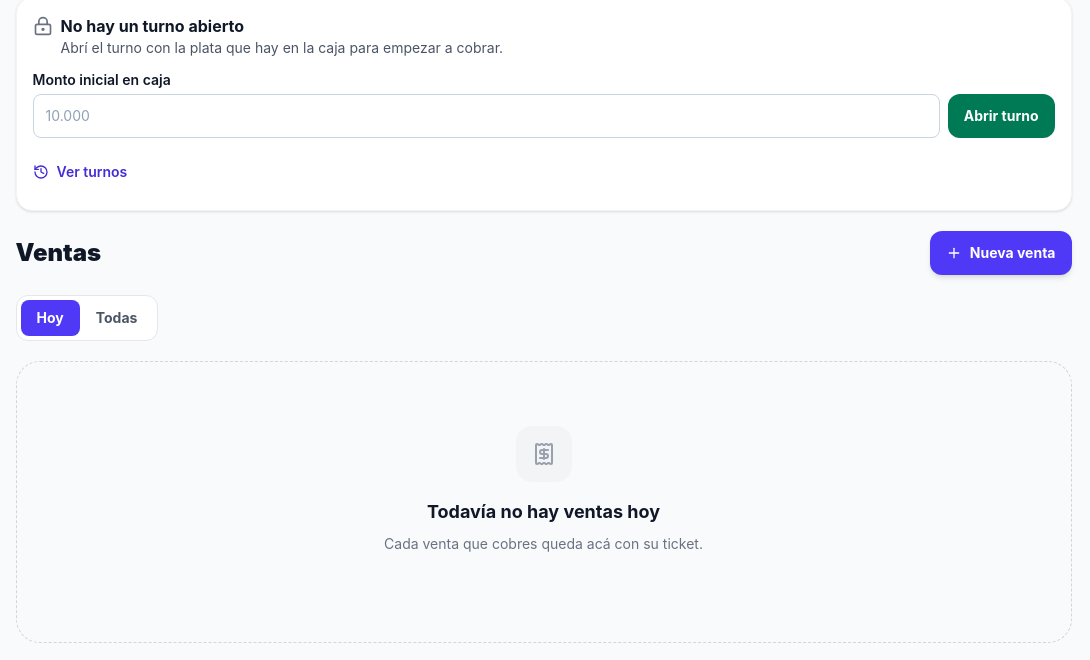
Test: Historial de ventas (/ventas) › "Todas" quita el filtro del día y "Cargar más" trae la página siguiente
Expected: the heading "Todavía no hay ventas hoy" is shown, [427, 498, 660, 526]
Click the button "Todas" at {"x": 116, "y": 318}, box [80, 300, 153, 336]
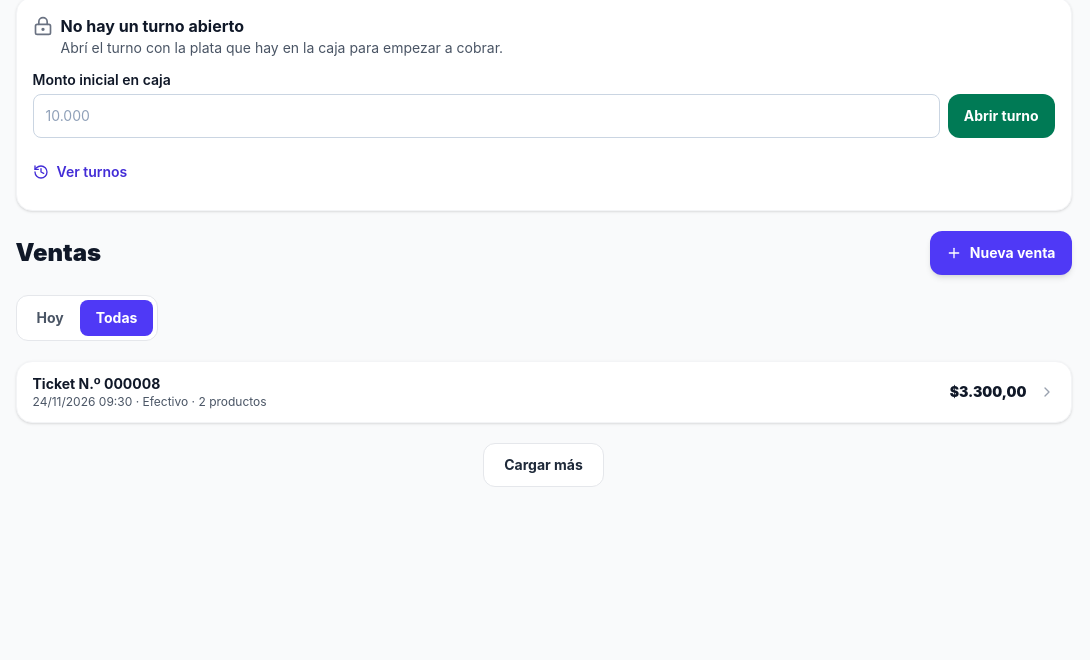
Expected: the link "000008" is shown, [32, 375, 1054, 409]
Click the button "Cargar más" at {"x": 544, "y": 465}, box [483, 443, 604, 487]
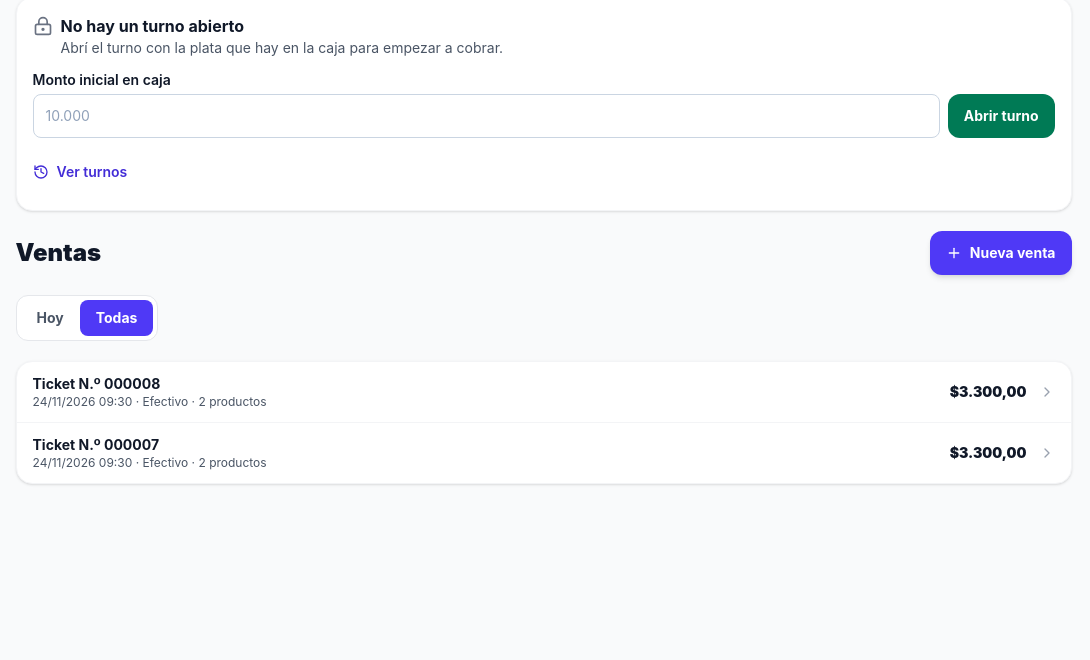
Expected: the link "000008" is shown, [32, 375, 1054, 409]
Expected: the link "000007" is shown, [32, 436, 1054, 470]
